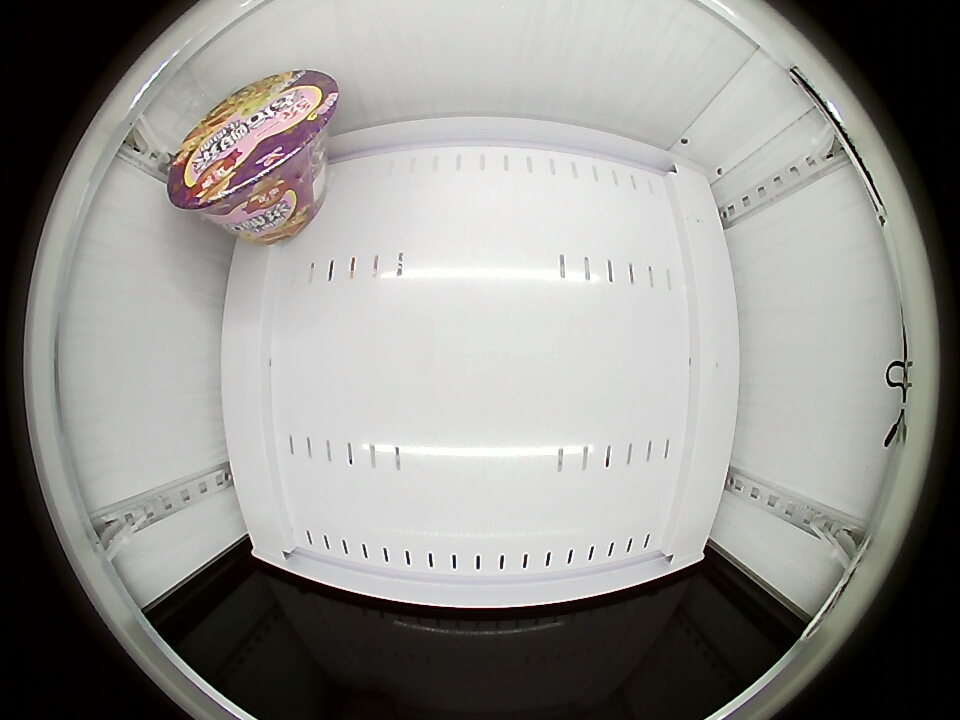laotansuancai: (168, 69, 338, 217)
